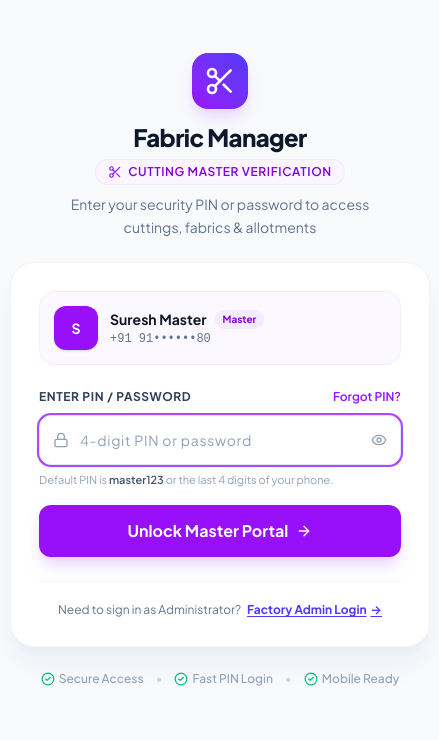
Test case: Role Portals Workflow Tests › MasterPortal Workflows › rejects incorrect PIN for Master portal
The image size is (439, 740).
In the password field with placeholder "4-digit PIN or password": point(220, 440) [39, 415, 401, 465], type "wrongpin"
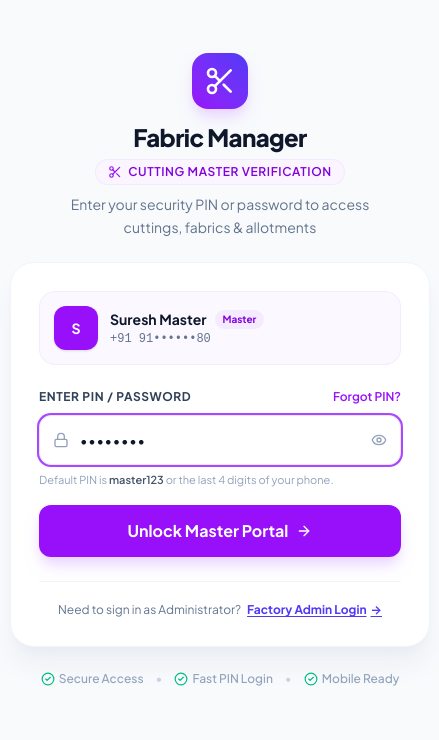
Click the button "Unlock Master Portal": point(220, 531) [39, 505, 401, 557]
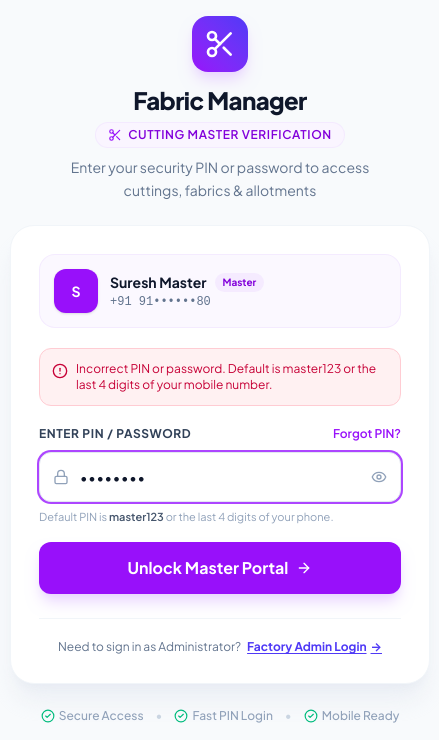
Check: the text "Incorrect PIN or password" is shown, box [76, 361, 376, 392]
